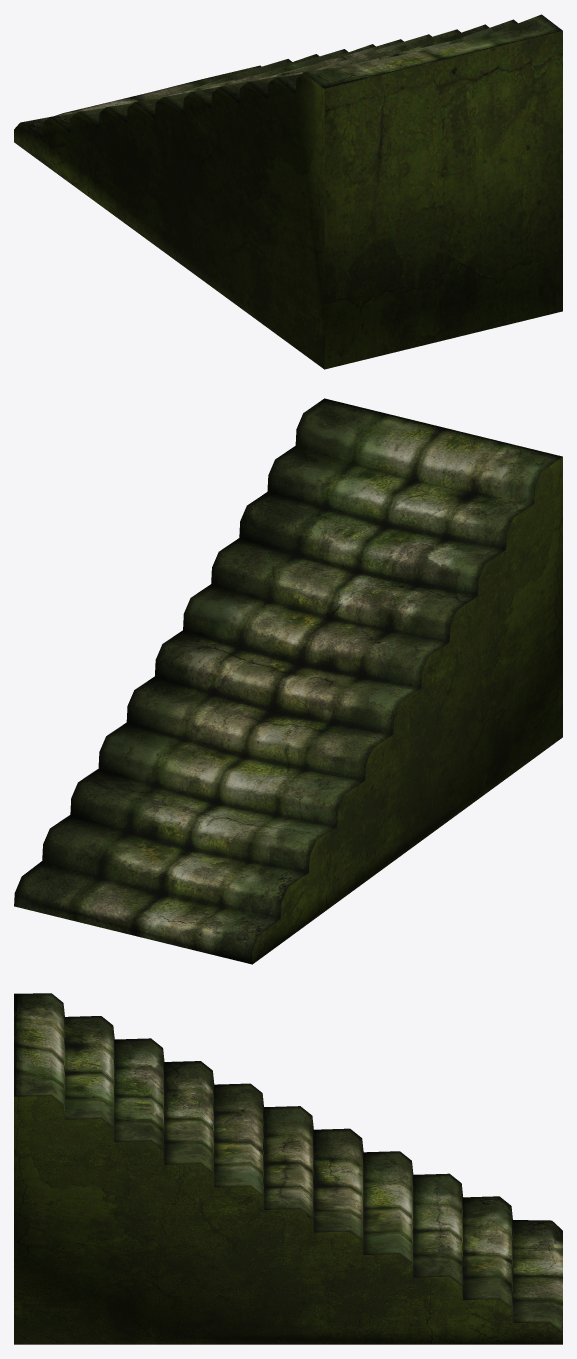
File: stone.DAE
The picture shows the model from 3 angles, top to bottom: view 1: azimuth 30°, elevation 25°; view 2: azimuth 150°, elevation 25°; view 3: azimuth 270°, elevation 25°; orthographic projection. The views are drawn at different scales.
Visible parts, largest first — view 1: stone; view 2: stone; view 3: stone.
Boxes of the visible parts, box(x1,y1,x2,y2) form: stone: box(14, 14, 562, 369); stone: box(14, 398, 562, 964); stone: box(14, 993, 562, 1344).
Size of the model in its own units: 1.78 by 2.01 by 4.01.
